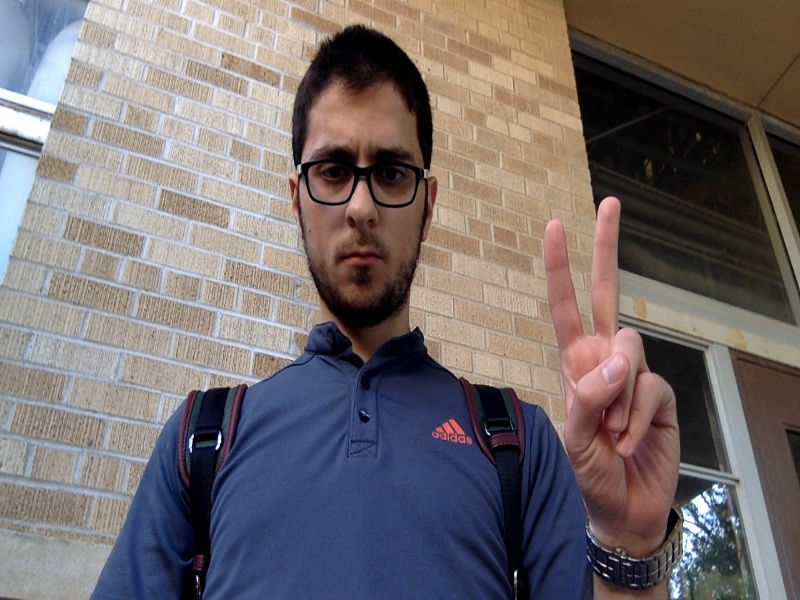2-hand: (545, 198, 678, 534)
